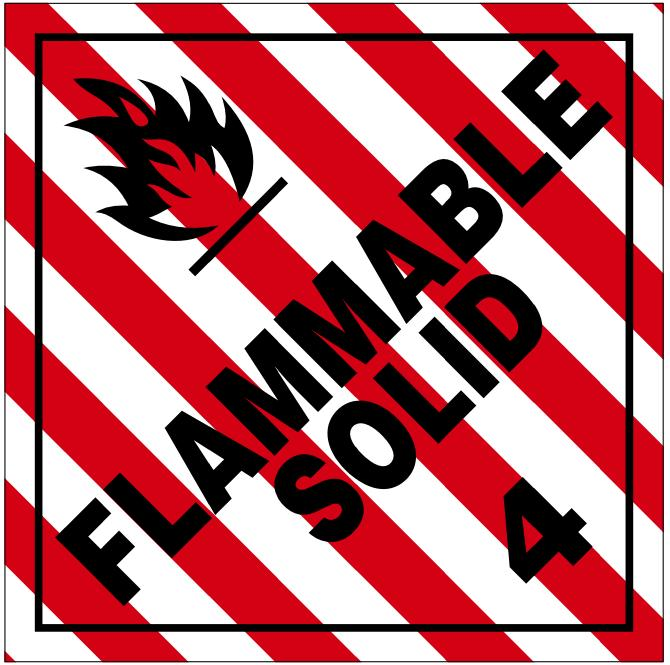flammable-solid: (1, 1, 670, 665)
